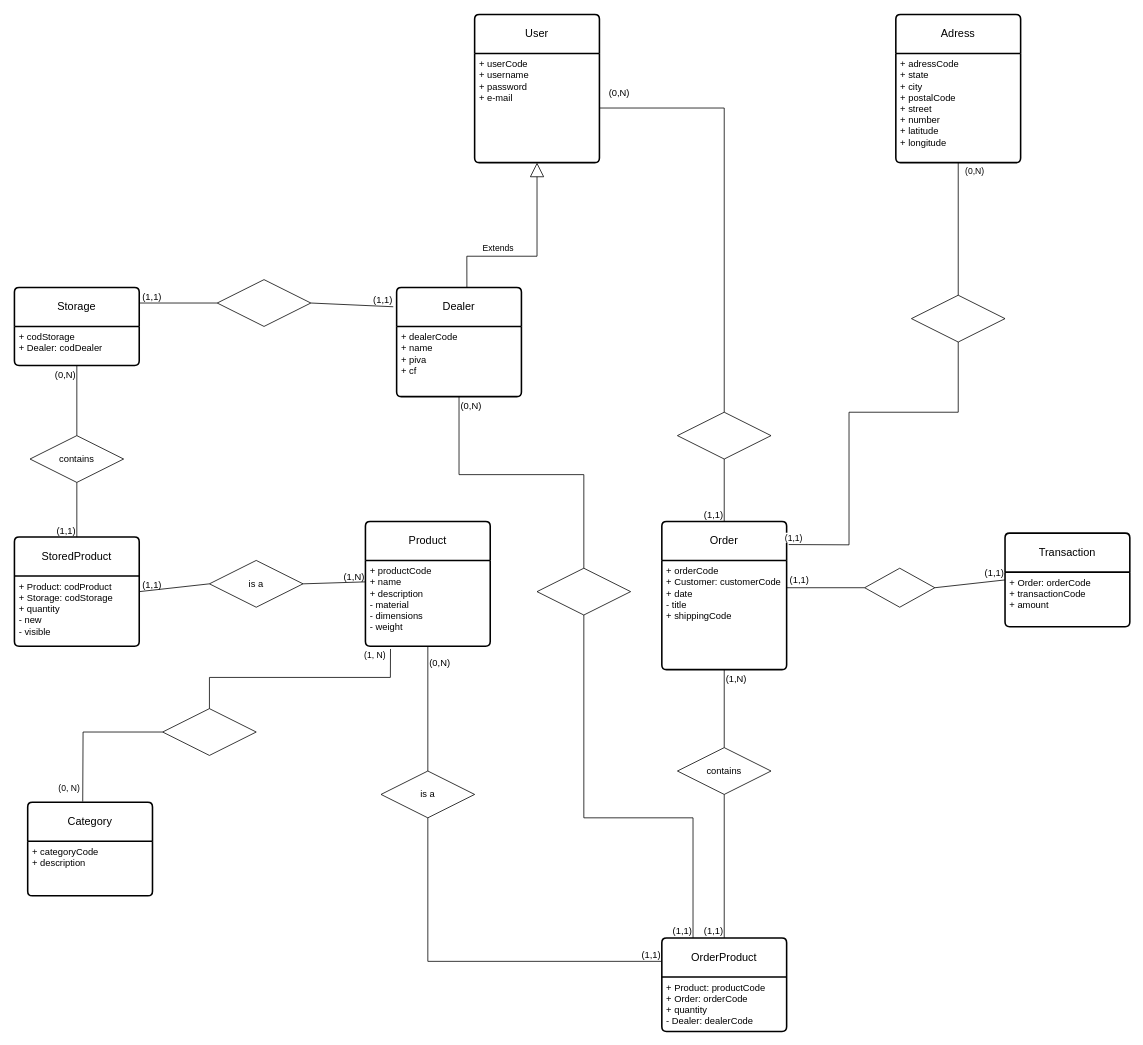
This 1143x1045 diagram has some shape labels left out. The centre of each missing label's shape, as x and y in pixels:
"belongs to" belongs at (209,731).
"confirms" belongs at (724,435).
"implies" belongs at (899,587).
"keeps" belongs at (263,302).
"provides" belongs at (583,591).
"shipped to" belongs at (958,318).
